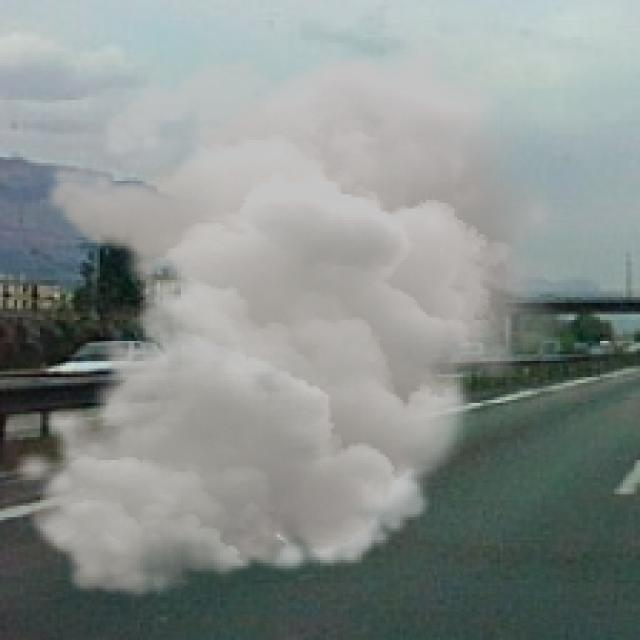Smoke: (9, 40, 578, 600)
